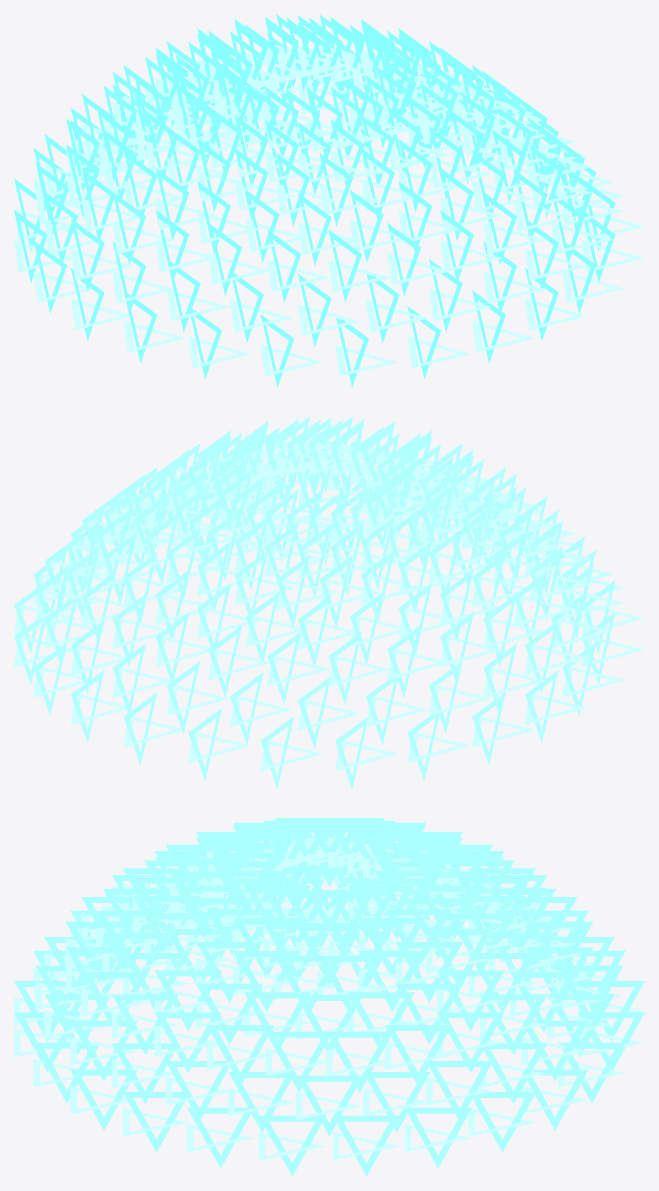
File: dome_6.glb
3 views of the same model, one above another, from view 1: azimuth 30°, elevation 25°; view 2: azimuth 150°, elevation 25°; view 3: azimuth 270°, elevation 25° (orthographic).
Visible parts, largest first — view 1: Polygon_77_2, Polygon_48_2, Polygon_70_2, Polygon_91_2, Polygon_60_2, Polygon_83_2, Polygon_67_2, Polygon_42_2, Polygon_59_2, Polygon_47_2, Polygon_55_2, Polygon_37_2 (+70 smaller); view 2: Polygon_81_2, Polygon_109_2, Polygon_93_2, Polygon_77_2, Polygon_92_2, Polygon_96_2, Polygon_97_2, Polygon_101_2, Polygon_40_2, Polygon_46_2, Polygon_58_2, Polygon_80_2 (+48 smaller); view 3: Polygon_117_2, Polygon_119_2, Polygon_7_2, Polygon_6_2, Polygon_13_2, Polygon_113_2, Polygon_5_2, Polygon_16_2, Polygon_109_2, Polygon_108_2, Polygon_19_2, Polygon_25_2 (+116 smaller).
Boxes of the visible parts, x1,y1,x2,y2 form: Polygon_77_2: (33, 240, 67, 313); Polygon_48_2: (328, 229, 362, 302); Polygon_70_2: (82, 169, 115, 238); Polygon_91_2: (350, 190, 383, 262); Polygon_60_2: (208, 223, 242, 295); Polygon_83_2: (246, 190, 279, 262); Polygon_67_2: (123, 290, 157, 363); Polygon_42_2: (387, 223, 420, 295); Polygon_59_2: (167, 259, 200, 331); Polygon_47_2: (298, 274, 331, 346); Polygon_55_2: (260, 314, 293, 387); Polygon_37_2: (472, 290, 505, 363); Polygon_81_2: (472, 692, 505, 764); Polygon_109_2: (33, 643, 66, 715); Polygon_93_2: (260, 716, 294, 789); Polygon_77_2: (525, 670, 558, 742); Polygon_92_2: (230, 672, 263, 744); Polygon_96_2: (166, 661, 200, 733); Polygon_97_2: (188, 708, 221, 780); Polygon_101_2: (123, 692, 157, 765); Polygon_40_2: (208, 625, 241, 697); Polygon_46_2: (267, 632, 300, 704); Polygon_58_2: (387, 625, 420, 697); Polygon_80_2: (429, 661, 462, 733); Polygon_117_2: (405, 1107, 471, 1168); Polygon_119_2: (333, 1115, 399, 1176); Polygon_7_2: (259, 1115, 325, 1176); Polygon_6_2: (296, 1075, 362, 1136); Polygon_13_2: (187, 1107, 253, 1168); Polygon_113_2: (469, 1092, 535, 1152); Polygon_5_2: (266, 1031, 332, 1092); Polygon_16_2: (437, 1012, 504, 1072); Polygon_109_2: (522, 1069, 588, 1130); Polygon_108_2: (480, 1043, 546, 1103); Polygon_19_2: (123, 1092, 189, 1152); Polygon_25_2: (70, 1069, 137, 1130).
Bounding box in the file's own units: 22.4 × 7.87 × 22.4.
1 material, 1 textured.
